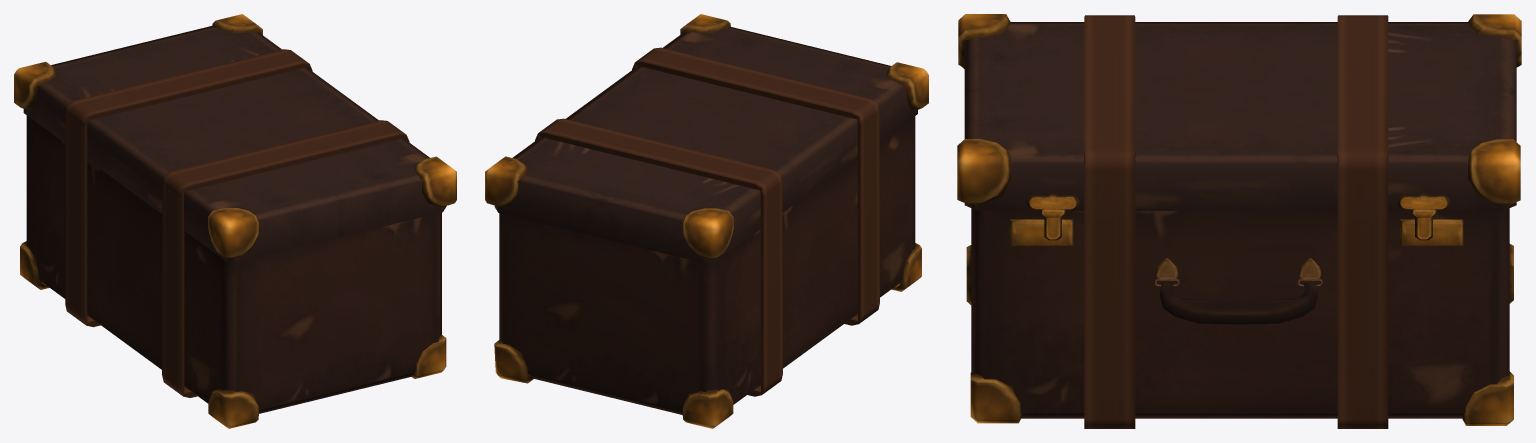
File: Trunk_A.fbx
The picture shows the model from 3 angles, left to right: view 1: azimuth 30°, elevation 25°; view 2: azimuth 150°, elevation 25°; view 3: azimuth 270°, elevation 25°; orthographic projection. The views are drawn at different scales.
Visible parts, largest first — view 1: Trunk_Base_A, Trunk_Lid_A, Laether_Strap_A, Laether_Strap_A1, Corner_A3, Corner_A6, Corner_A1, Corner_A2, Corner_A7, Corner_A5, Corner_A; view 2: Trunk_Base_A, Trunk_Lid_A, Laether_Strap_A, Laether_Strap_A1, Corner_A2, Corner_A5, Corner_A, Corner_A3, Corner_A4, Corner_A6, Corner_A1; view 3: Trunk_Base_A, Trunk_Lid_A, Laether_Strap_A, Laether_Strap_A1, Handle_A, Corner_A1, Corner_A, Corner_A7, Corner_A4, Lock_A_4, Lock_A_1, Corner_A3 (+5 smaller).
Part boxes in pixels (x1,y1,x2,y2): Trunk_Base_A: [26, 115, 441, 413]; Trunk_Lid_A: [23, 25, 446, 261]; Laether_Strap_A: [65, 49, 312, 327]; Laether_Strap_A1: [162, 120, 409, 397]; Corner_A3: [208, 208, 259, 257]; Corner_A6: [208, 389, 258, 428]; Corner_A1: [414, 156, 456, 206]; Corner_A2: [14, 61, 56, 109]; Corner_A7: [411, 334, 446, 378]; Corner_A5: [20, 241, 49, 289]; Corner_A: [212, 14, 262, 34]; Trunk_Base_A: [499, 116, 915, 414]; Trunk_Lid_A: [494, 26, 917, 262]; Laether_Strap_A: [535, 118, 782, 396]; Laether_Strap_A1: [632, 47, 879, 325]; Corner_A2: [683, 208, 733, 258]; Corner_A5: [682, 389, 733, 428]; Corner_A: [485, 156, 527, 206]; Corner_A3: [886, 62, 928, 109]; Corner_A4: [494, 339, 533, 383]; Corner_A6: [891, 243, 921, 291]; Corner_A1: [680, 14, 730, 34]; Trunk_Base_A: [971, 208, 1509, 418]; Trunk_Lid_A: [964, 22, 1516, 210]; Laether_Strap_A: [1337, 15, 1388, 428]; Laether_Strap_A1: [1084, 15, 1135, 428]; Handle_A: [1154, 279, 1322, 324]; Corner_A1: [957, 139, 1011, 203]; Corner_A: [1468, 139, 1520, 204]; Corner_A7: [970, 372, 1022, 423]; Corner_A4: [1461, 371, 1513, 425]; Lock_A_4: [1009, 219, 1073, 245]; Lock_A_1: [1400, 219, 1463, 245]; Corner_A3: [958, 14, 1010, 68].
Bounding box in the file's own units: 7.67 × 6.71 × 12.29.
